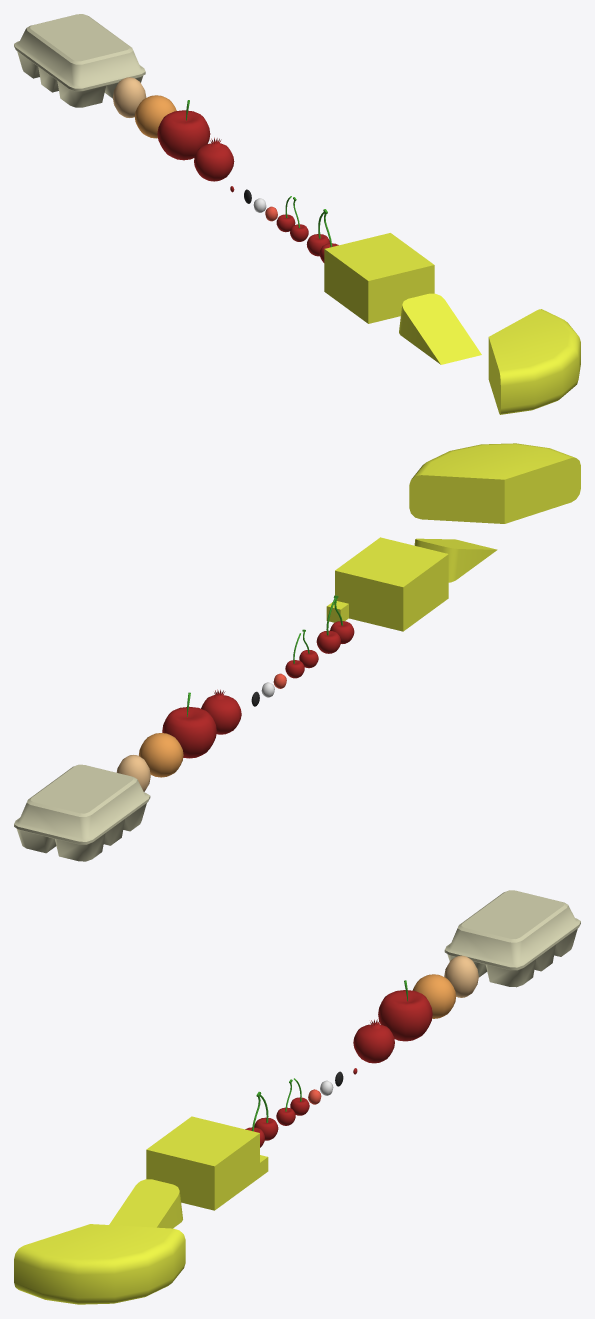
The model's file is SM_CheeseRound.fbx.
3 renders of one model, top to bottom at view 1: azimuth 30°, elevation 25°; view 2: azimuth 150°, elevation 25°; view 3: azimuth 330°, elevation 25°, orthographic. The views are drawn at different scales.
Parts seen in each view (by area): view 1: SM_Eggbox, SM_CheeseRound, SM_CheeseBlock, SM_CheeseWedge, SM_Apple, SM_Pomegranate, SM_Orange, SM_Egg, SM_Cherries; view 2: SM_CheeseRound, SM_Eggbox, SM_CheeseBlock, SM_Apple, SM_CheeseWedge, SM_Orange, SM_Pomegranate, SM_Cherries, SM_Egg; view 3: SM_CheeseRound, SM_Eggbox, SM_CheeseBlock, SM_CheeseWedge, SM_Apple, SM_Pomegranate, SM_Orange, SM_Egg, SM_Cherries.
Boxes of the visible parts, x1,y1,x2,y2 form: SM_Eggbox: (14,14,145,107); SM_CheeseRound: (488,309,580,414); SM_CheeseBlock: (324,233,434,323); SM_CheeseWedge: (399,293,481,364); SM_Apple: (157,100,210,160); SM_Pomegranate: (194,137,234,181); SM_Orange: (134,95,176,138); SM_Egg: (112,77,146,117); SM_Cherries: (306,209,338,262); SM_CheeseRound: (409,443,580,523); SM_Eggbox: (14,764,150,861); SM_CheeseBlock: (335,537,448,631); SM_Apple: (162,692,216,758); SM_CheeseWedge: (414,538,497,582); SM_Orange: (138,733,183,777); SM_Pomegranate: (201,689,241,734); SM_Cherries: (316,595,354,653); SM_Egg: (116,755,150,792); SM_CheeseRound: (14,1224,185,1304); SM_Eggbox: (444,890,580,987); SM_CheeseBlock: (146,1116,259,1210); SM_CheeseWedge: (109,1179,182,1228); SM_Apple: (378,980,432,1041); SM_Pomegranate: (353,1019,394,1063); SM_Orange: (412,974,456,1018); SM_Egg: (444,955,478,997); SM_Cherries: (245,1091,278,1147).
Size of the model in its own units: 398 by 186 by 2849.
